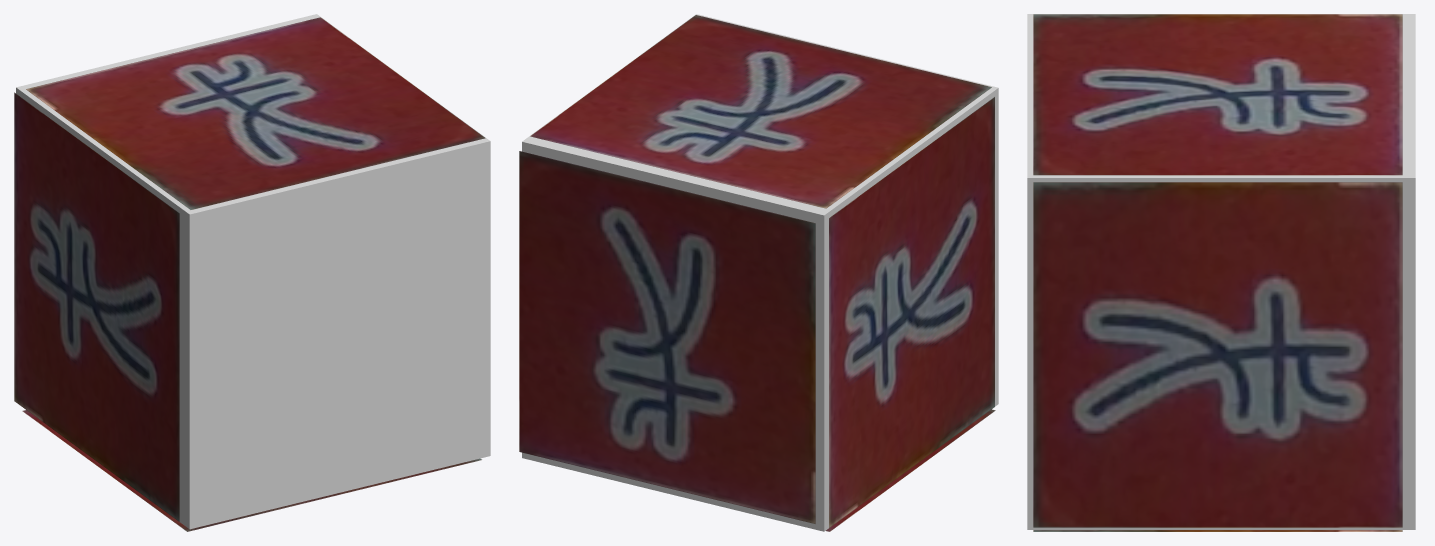
3 views of the same model, side by side, from view 1: azimuth 30°, elevation 25°; view 2: azimuth 150°, elevation 25°; view 3: azimuth 270°, elevation 25° (orthographic). The views are drawn at different scales.
Parts seen in each view (by area): view 1: Link27, R1.002, R1.004, R1.003; view 2: R1.001, R1.002, R1.004, Link27, R1.003; view 3: R1, R1.004, Link27, R1.003.
Part boxes in pixels (x1,y1,x2,y2): Link27: [16, 14, 490, 529]; R1.002: [14, 92, 179, 521]; R1.004: [26, 17, 485, 209]; R1.003: [22, 410, 481, 531]; R1.001: [519, 151, 815, 523]; R1.002: [829, 97, 994, 527]; R1.004: [530, 15, 991, 208]; Link27: [522, 14, 998, 531]; R1.003: [826, 409, 995, 531]; R1: [1033, 182, 1402, 527]; R1.004: [1033, 14, 1402, 175]; Link27: [1027, 14, 1415, 529]; R1.003: [1033, 530, 1402, 531].
Bounding box in the file's own units: 0.3557 × 0.3545 × 0.3567.
1 material, 1 textured.
